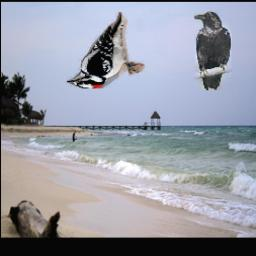Crow: (193, 11, 231, 90)
Woodpecker: (66, 13, 144, 89)
